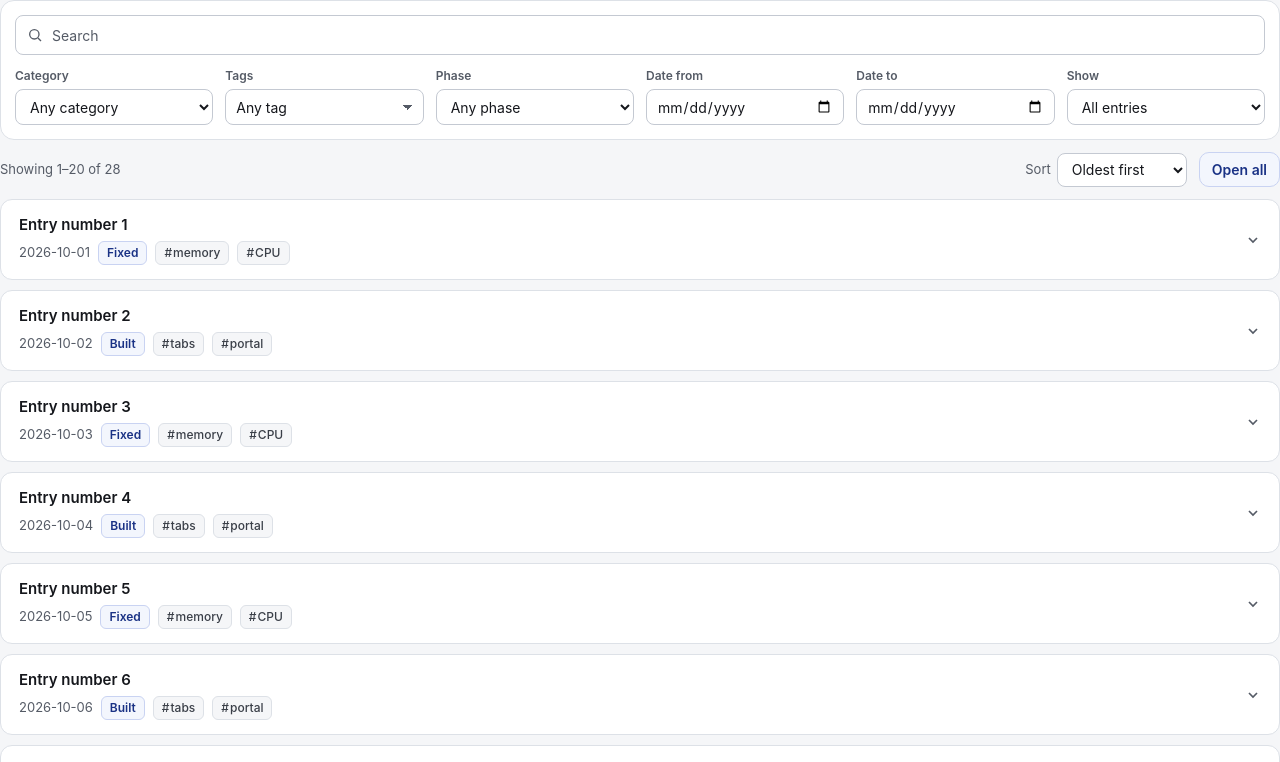
Browse › no matches: no Open all button
In the search field named "Search the entries": (640, 35) [15,15,1265,55], type "nothing-like-this"
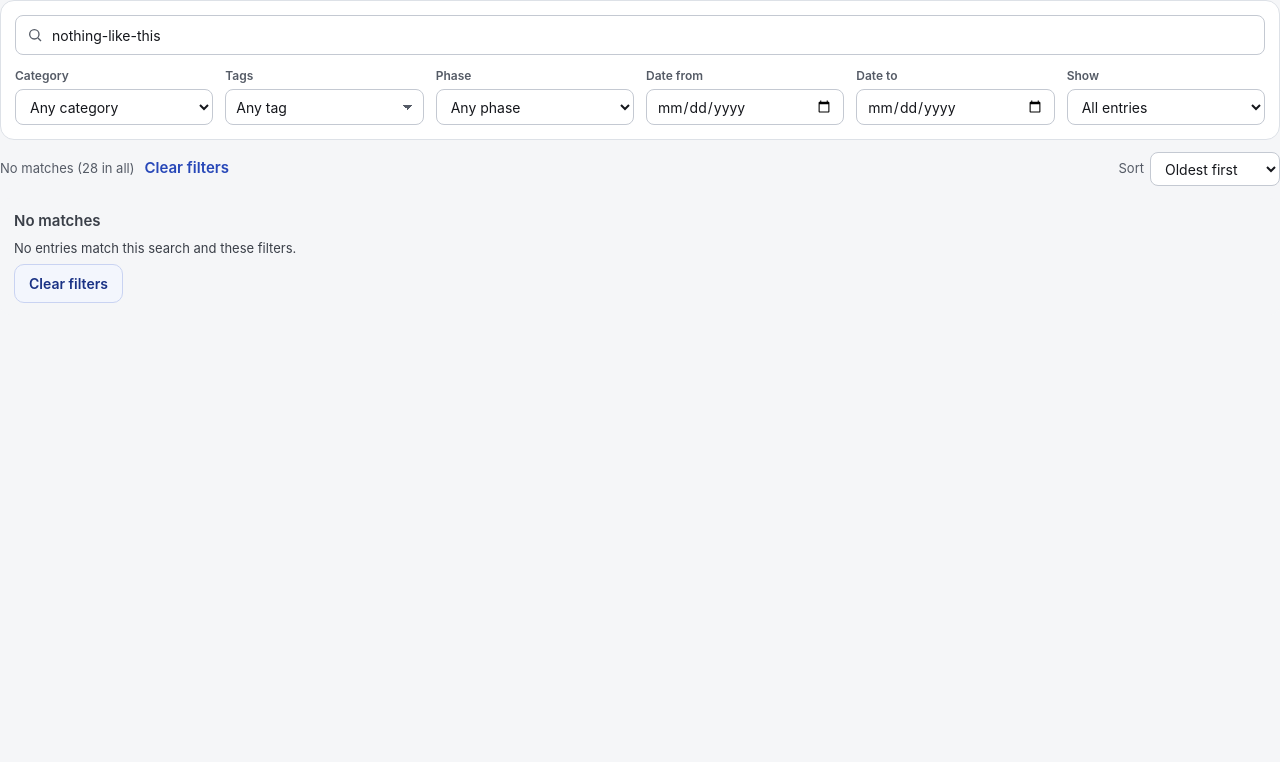
Now the button with test id "log-open-all" is gone
